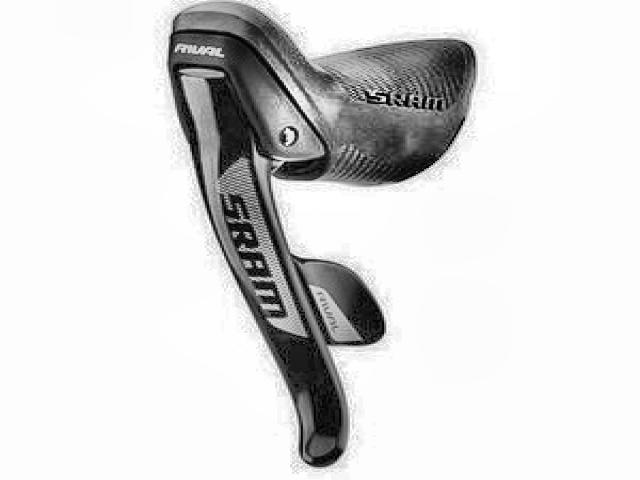sti_shifter: (163, 2, 451, 469)
